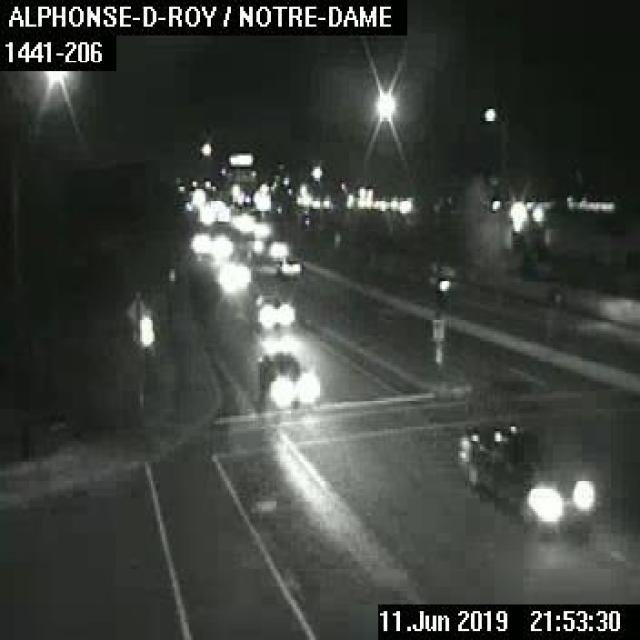vehicle: (458, 422, 591, 534), (254, 349, 311, 407), (256, 296, 293, 326), (216, 263, 250, 291), (275, 253, 300, 276)
